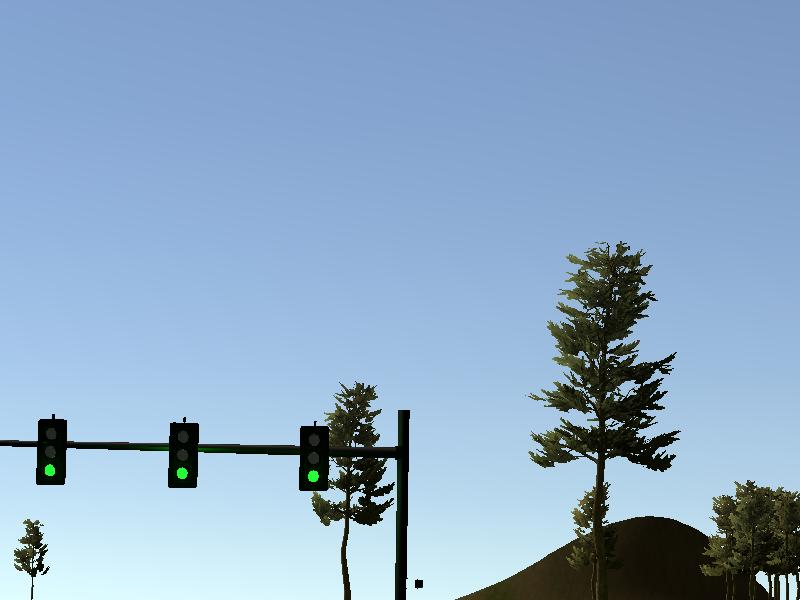green: (36, 417, 67, 486), (167, 422, 198, 491), (299, 423, 330, 492)
